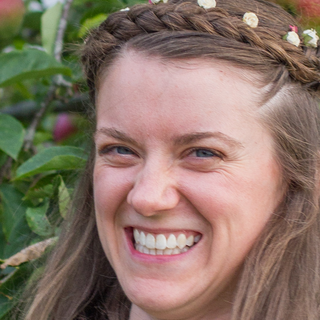eye: (177, 142, 229, 166), (98, 140, 143, 165)
